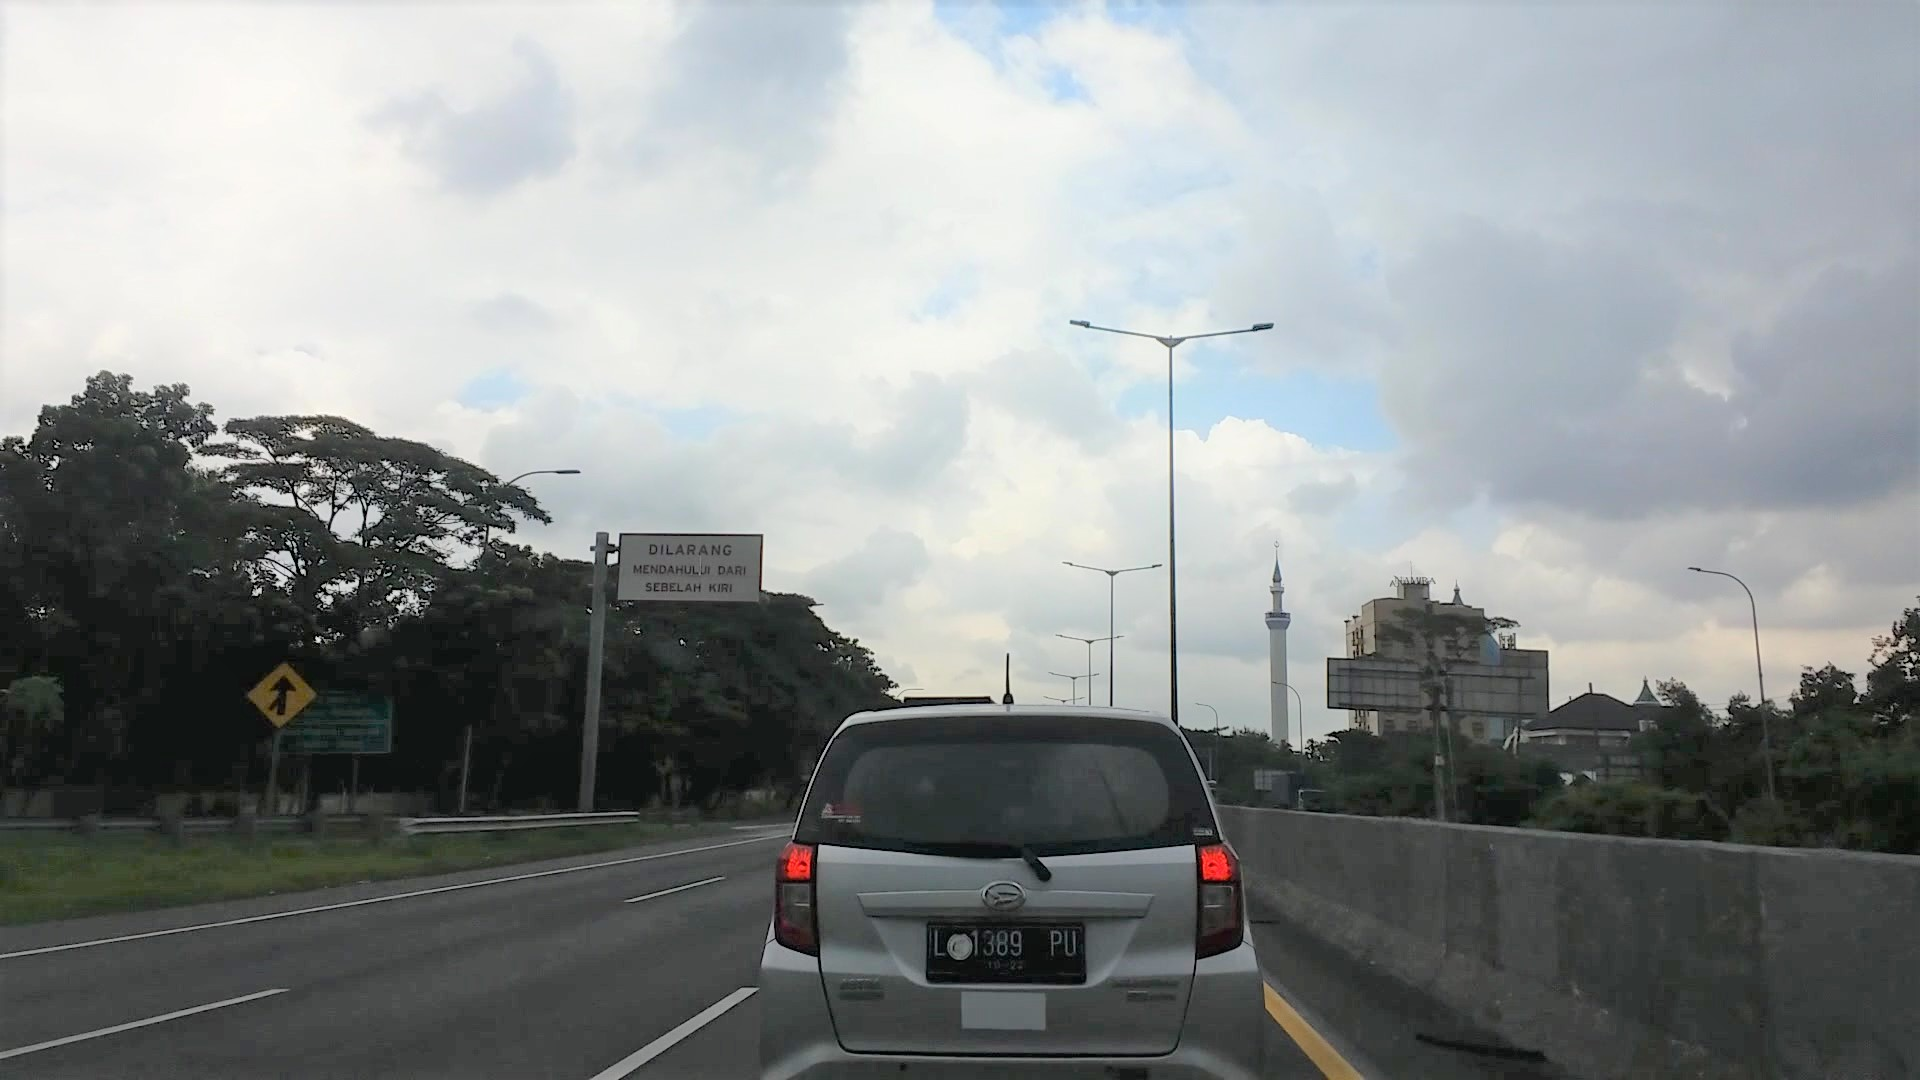plate_positive: (927, 919, 1087, 985)
